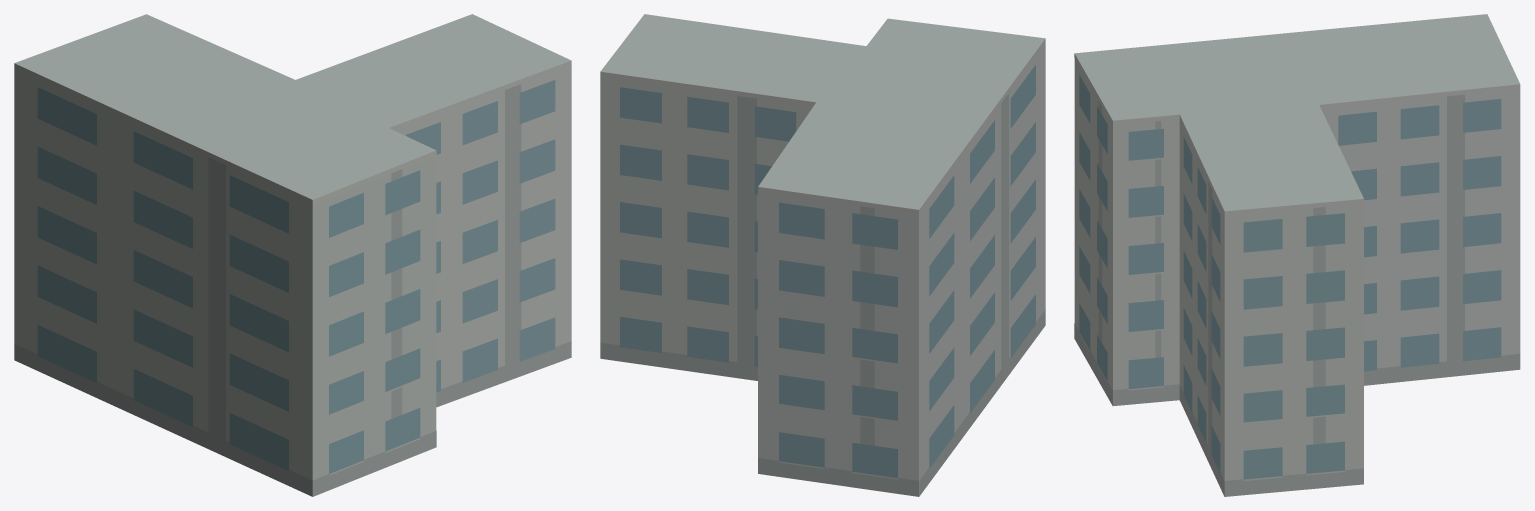
The model's file is survey-upis-32712174.glb.
3 views of the same model, side by side, from view 1: azimuth 30°, elevation 25°; view 2: azimuth 150°, elevation 25°; view 3: azimuth 270°, elevation 25° (orthographic). The views are drawn at different scales.
Visible parts, largest first — view 1: survey-upis-32712174.tmp; view 2: survey-upis-32712174.tmp; view 3: survey-upis-32712174.tmp.
Part boxes in pixels (<box>): survey-upis-32712174.tmp: <box>14,14,571,496</box>; survey-upis-32712174.tmp: <box>600,14,1045,496</box>; survey-upis-32712174.tmp: <box>1074,14,1520,496</box>.
Bounding box in the file's own units: 22.1 × 14.9 × 21.1.
